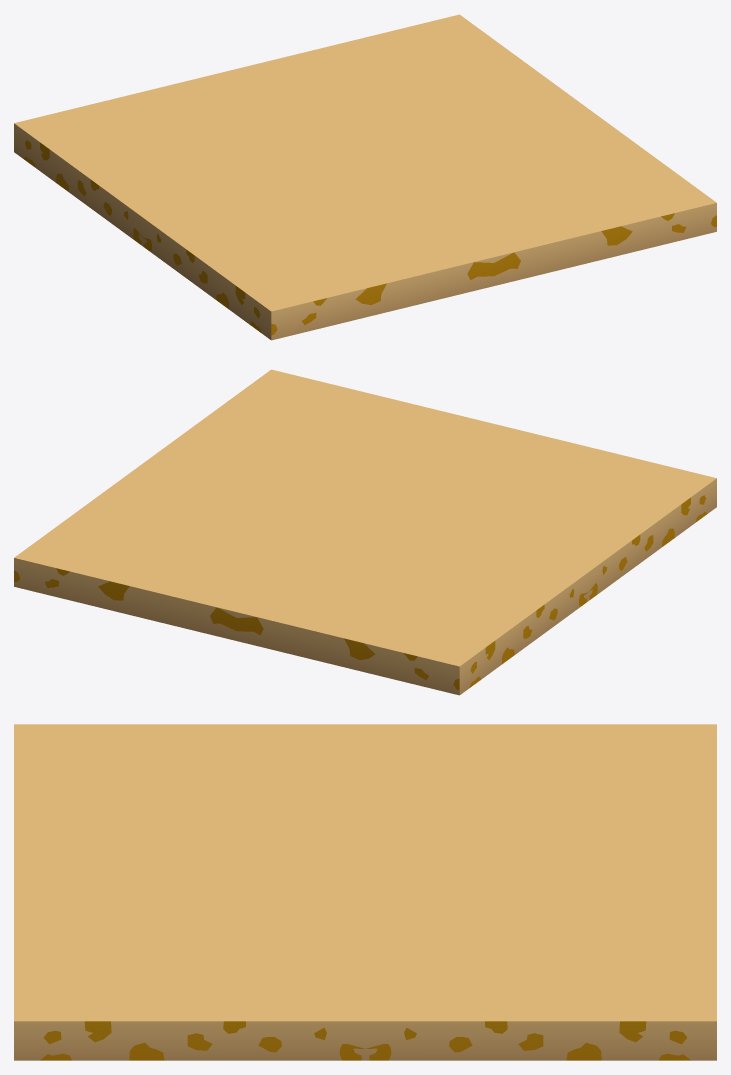
3 renders of one model, top to bottom at view 1: azimuth 30°, elevation 25°; view 2: azimuth 150°, elevation 25°; view 3: azimuth 270°, elevation 25°, orthographic. The views are drawn at different scales.
Parts seen in each view (by area): view 1: Cube.549; view 2: Cube.549; view 3: Cube.549.
Part boxes in pixels (<box>): Cube.549: <box>14,14,716,340</box>; Cube.549: <box>14,369,716,695</box>; Cube.549: <box>14,724,716,1060</box>.
Bounding box in the file's own units: 158 × 9.78 × 158.
1 material, 1 textured.
